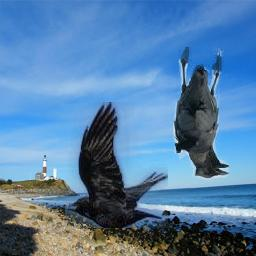Crow: (66, 102, 169, 228), (173, 48, 229, 183)
